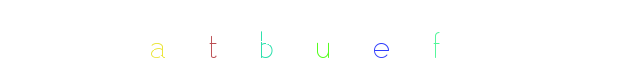A: (130, 0, 210, 80)
B: (275, 0, 355, 80)
E: (286, 0, 366, 80)
F: (340, 0, 420, 80)
T: (172, 0, 252, 80)
U: (283, 0, 363, 80)
